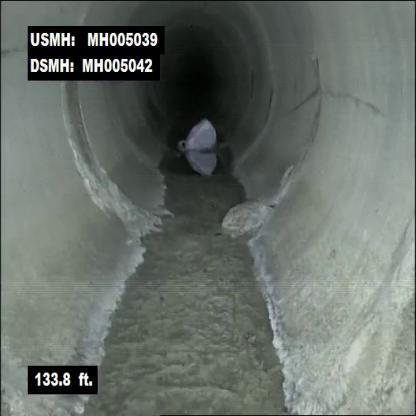crack: (328, 80, 410, 140)
obsc: (216, 188, 290, 252)
